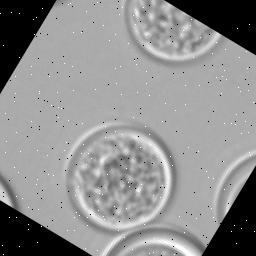picoshell: (66, 125, 173, 229), (124, 0, 220, 61), (213, 149, 256, 222), (105, 226, 203, 256), (0, 175, 17, 208)
